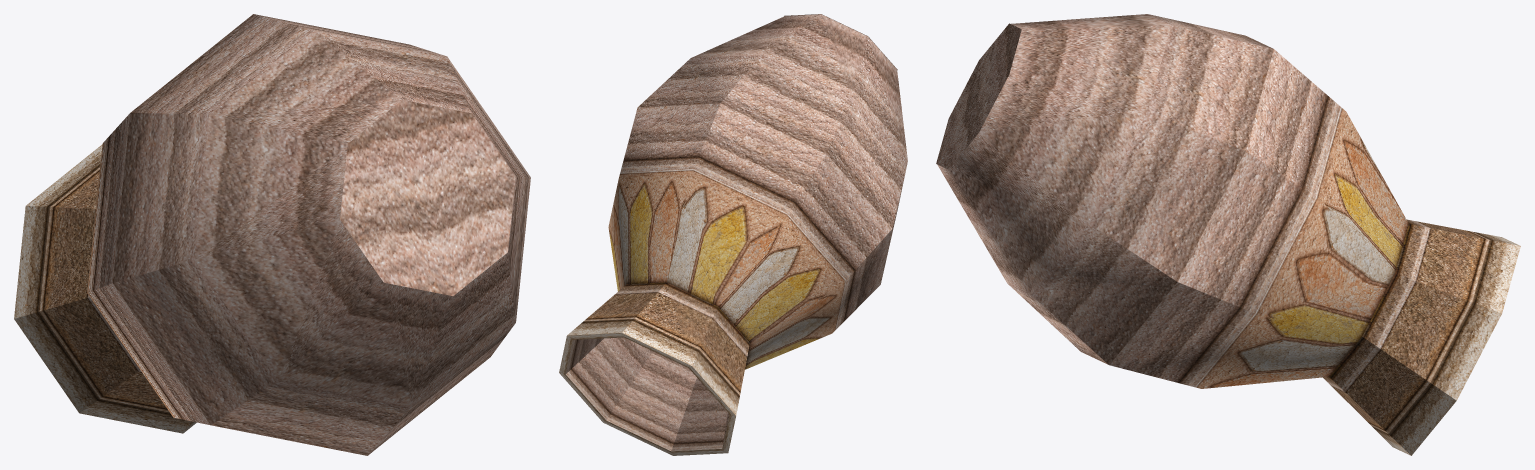
File: mm9_deco_urn2tip1.glb
3 renders of one model, left to right at view 1: azimuth 30°, elevation 25°; view 2: azimuth 150°, elevation 25°; view 3: azimuth 270°, elevation 25°, orthographic. The views are drawn at different scales.
Parts seen in each view (by area): view 1: Urn2tip1; view 2: Urn2tip1; view 3: Urn2tip1.
Boxes of the visible parts, x1=… form: Urn2tip1: x1=14, y1=14, x2=530, y2=455; Urn2tip1: x1=559, y1=14, x2=907, y2=455; Urn2tip1: x1=936, y1=14, x2=1520, y2=455.
Size of the model in its own units: 0.5775 by 0.6963 by 0.8748.
1 material, 1 textured.
